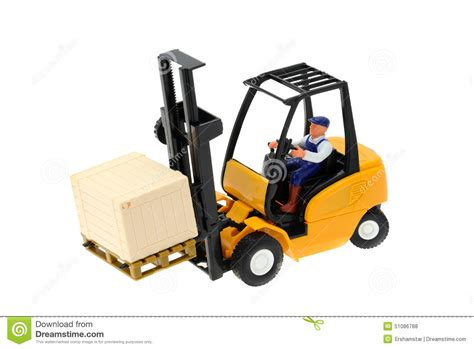Pallet Jack: (81, 46, 392, 288)
